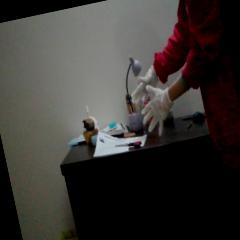gloved: (136, 82, 176, 138), (126, 66, 160, 106)
